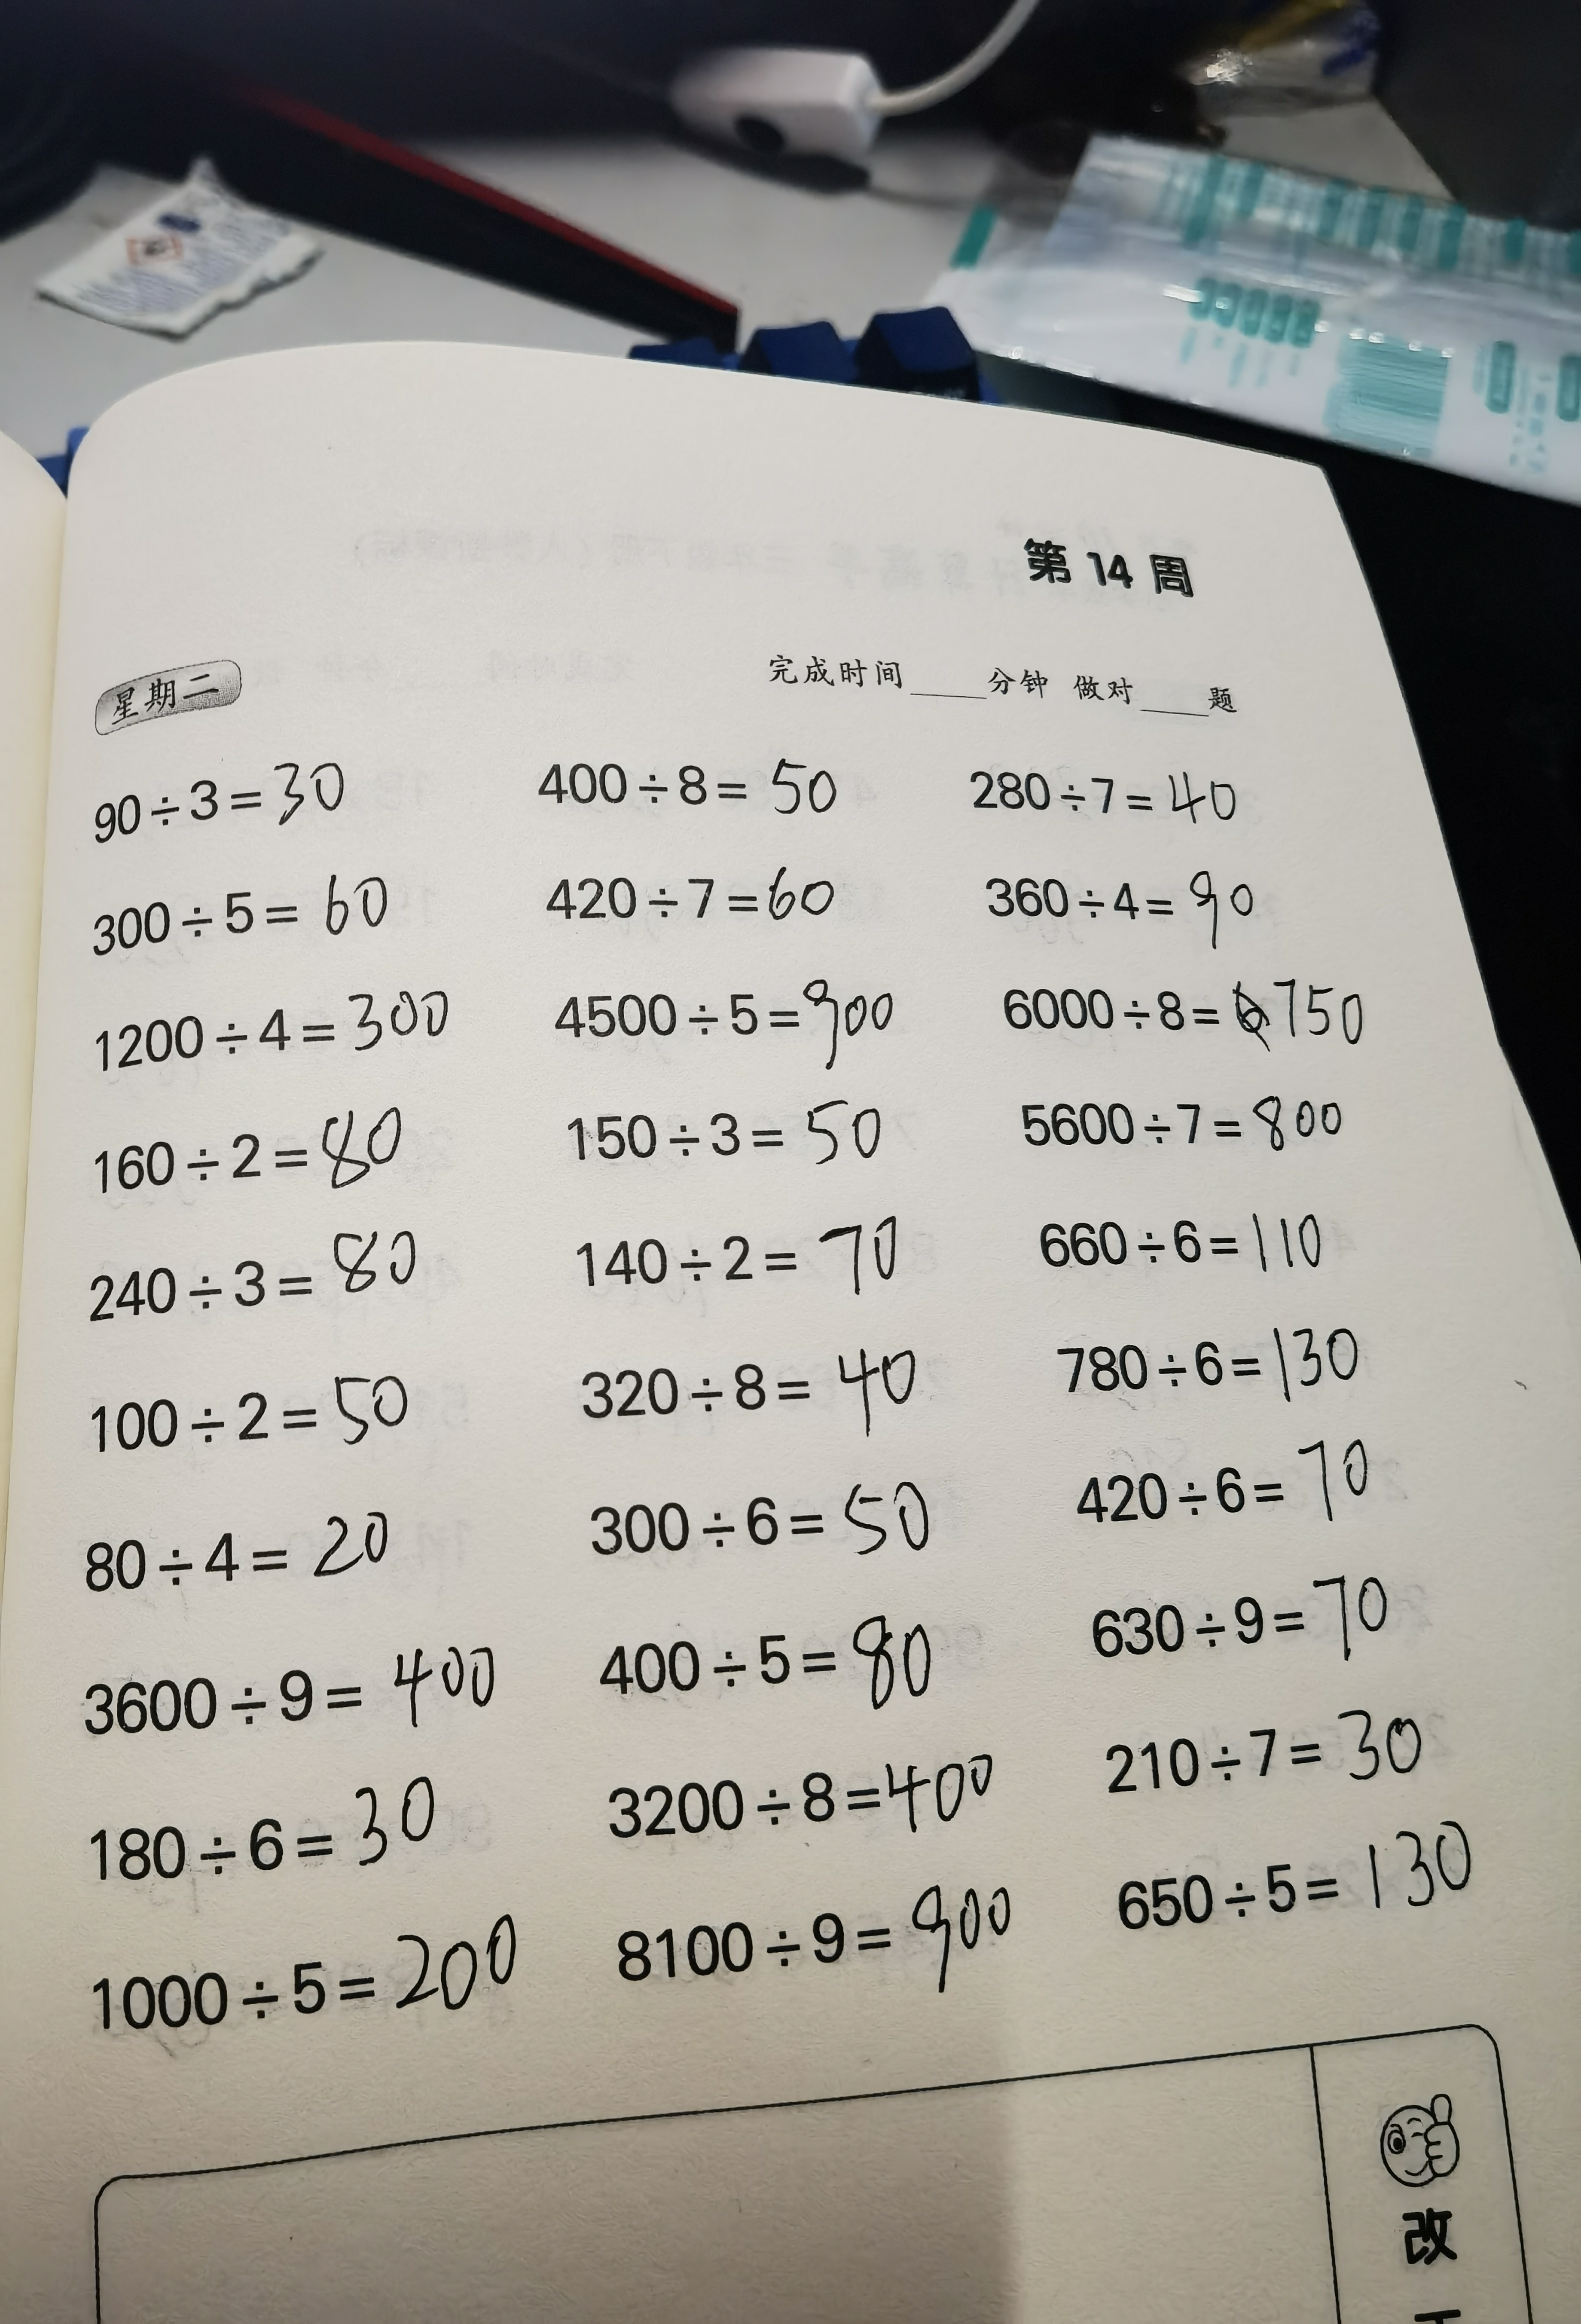equation: (68, 1908, 563, 2059), (613, 1858, 1035, 2016), (42, 1624, 518, 1743), (496, 1193, 932, 1310), (52, 968, 482, 1083), (558, 1602, 980, 1719), (40, 1355, 443, 1477), (1094, 1817, 1498, 1937), (549, 1458, 958, 1576), (523, 1746, 1008, 1846), (52, 1764, 465, 1874), (994, 954, 1379, 1071), (1084, 1691, 1477, 1805), (534, 1341, 968, 1439), (46, 1217, 444, 1324), (49, 865, 437, 973), (516, 968, 913, 1071), (54, 1098, 441, 1203), (465, 734, 881, 827), (994, 1076, 1410, 1169), (532, 1073, 925, 1171), (1008, 1186, 1410, 1279), (1032, 1306, 1429, 1399), (44, 1502, 413, 1602), (1075, 1566, 1439, 1664), (956, 743, 1264, 842), (968, 853, 1290, 944), (1032, 1447, 1388, 1521), (70, 765, 375, 844), (511, 868, 853, 939)
